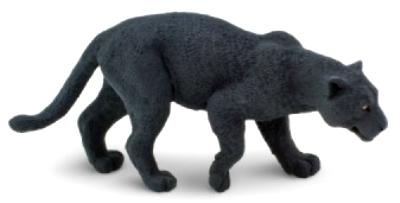panther: (5, 11, 388, 191)
